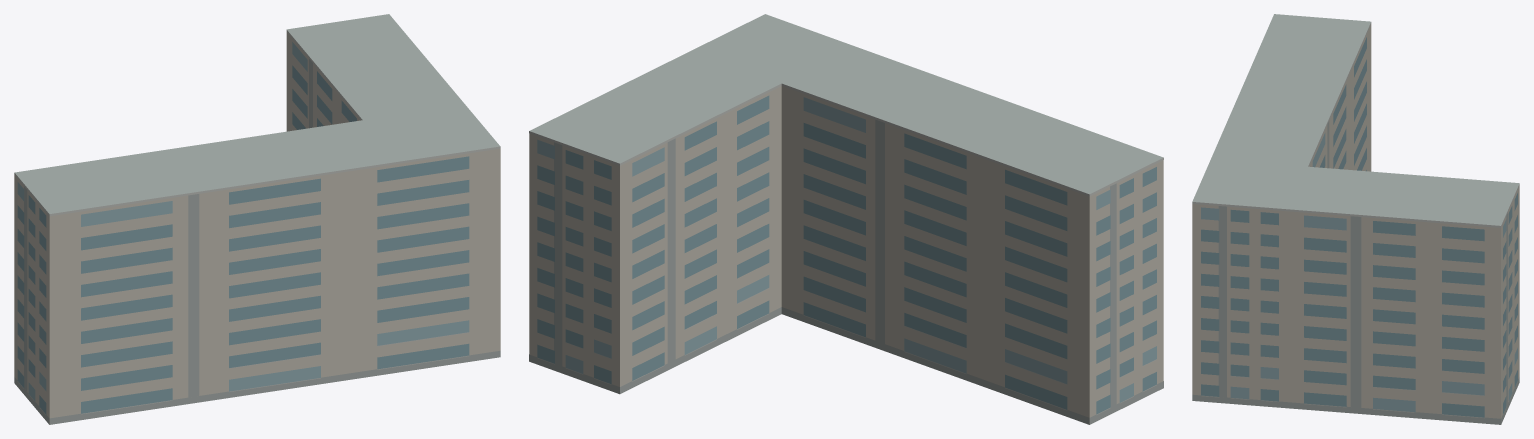
Rendered from residential-4249a644-8571-4601-a775-71d561730155.glb.
The picture shows the model from 3 angles, left to right: view 1: azimuth 30°, elevation 25°; view 2: azimuth 150°, elevation 25°; view 3: azimuth 270°, elevation 25°; orthographic projection. The views are drawn at different scales.
Parts seen in each view (by area): view 1: residential-4249a644-8571-4601-a775-71d561730155.tmp; view 2: residential-4249a644-8571-4601-a775-71d561730155.tmp; view 3: residential-4249a644-8571-4601-a775-71d561730155.tmp.
Part boxes in pixels (left/top/right/bottom): residential-4249a644-8571-4601-a775-71d561730155.tmp: left=14, top=14, right=500, bottom=424; residential-4249a644-8571-4601-a775-71d561730155.tmp: left=529, top=14, right=1163, bottom=424; residential-4249a644-8571-4601-a775-71d561730155.tmp: left=1192, top=14, right=1519, bottom=424.
Size of the model in its own units: 54.81 by 24 by 35.8.
